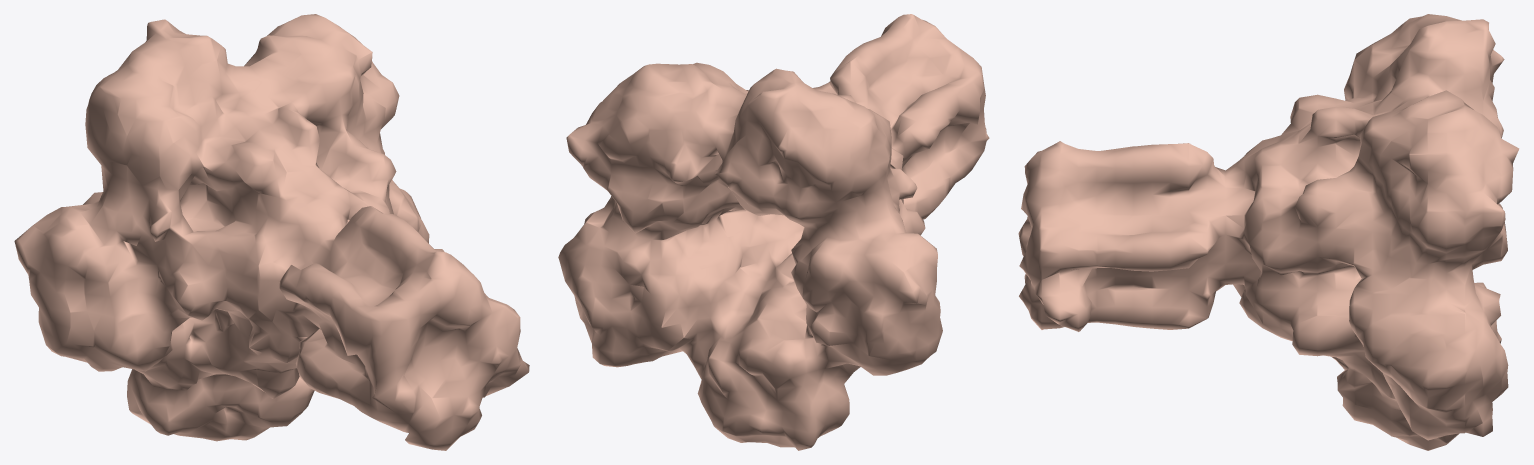
Rendered from CoarseMS_4i0u_1_0.dae.
3 views of the same model, side by side, from view 1: azimuth 30°, elevation 25°; view 2: azimuth 150°, elevation 25°; view 3: azimuth 270°, elevation 25° (orthographic). The views are drawn at different scales.
Visible parts, largest first — view 1: CoarseMS_4i0u_aligned; view 2: CoarseMS_4i0u_aligned; view 3: CoarseMS_4i0u_aligned.
Boxes of the visible parts, x1,y1,x2,y2 form: CoarseMS_4i0u_aligned: [14, 14, 529, 450]; CoarseMS_4i0u_aligned: [558, 14, 989, 450]; CoarseMS_4i0u_aligned: [1018, 14, 1519, 450].
Size of the model in its own units: 104 by 103 by 118.
